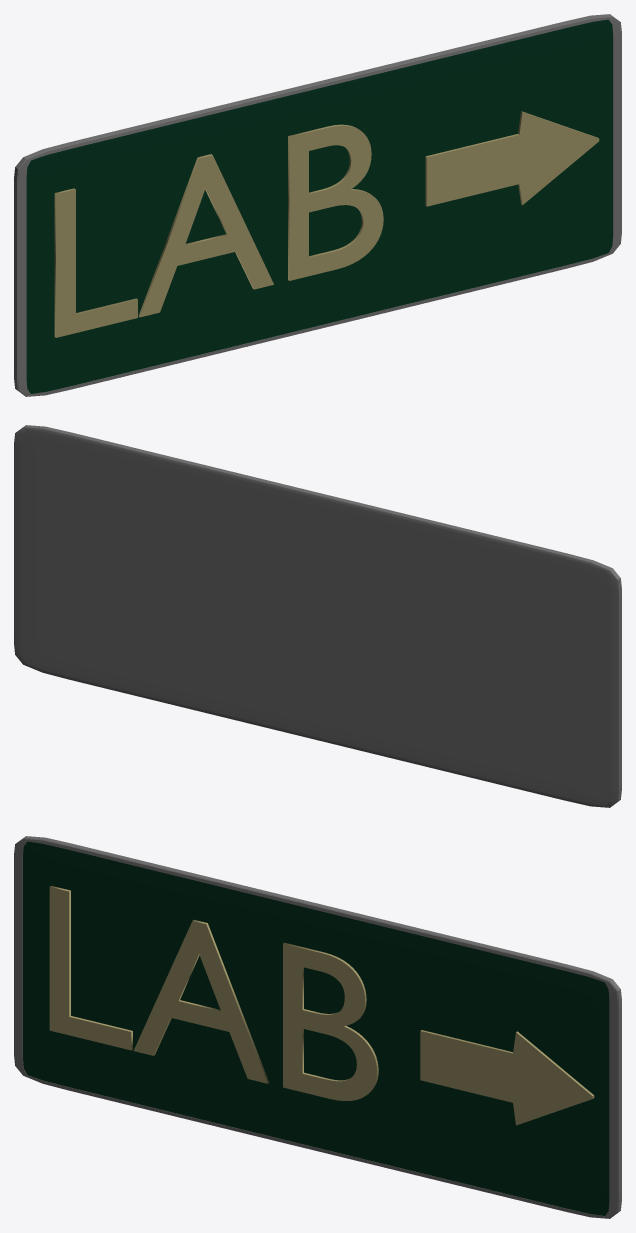
Rendered from lab to the right.fbx.
The picture shows the model from 3 angles, top to bottom: view 1: azimuth 30°, elevation 25°; view 2: azimuth 150°, elevation 25°; view 3: azimuth 330°, elevation 25°; orthographic projection.
Parts seen in each view (by area): view 1: Cube, Text, Cube.002; view 2: Cube; view 3: Cube, Text, Cube.002.
Part boxes in pixels (box(x1,y1,x2,y2)): Cube: box(14, 14, 621, 396); Text: box(54, 124, 383, 337); Cube.002: box(425, 111, 599, 206); Cube: box(14, 425, 621, 807); Cube: box(14, 836, 621, 1218); Text: box(49, 886, 378, 1100); Cube.002: box(420, 1030, 594, 1125).
Bounding box in the file's own units: 988 × 382 × 14.14.
